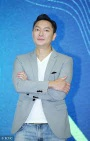male: (27, 11, 63, 55)
